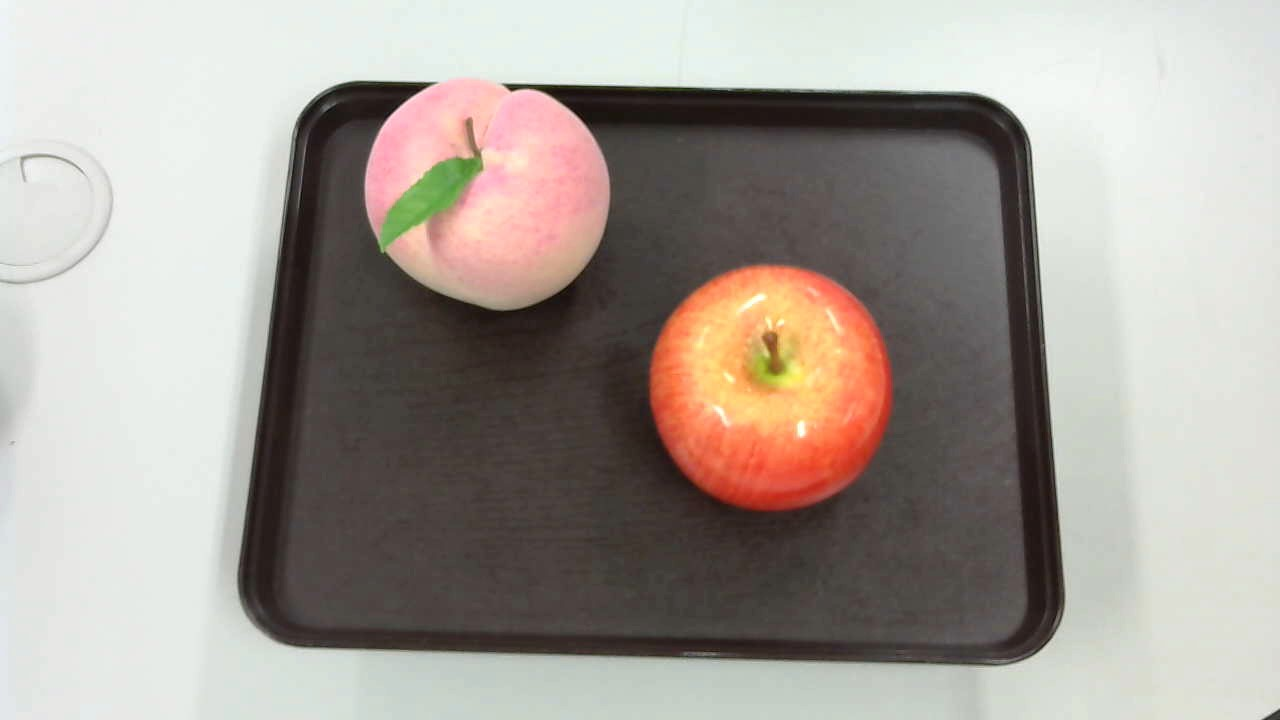peach: (360, 71, 616, 320)
red apple: (646, 264, 896, 519)
